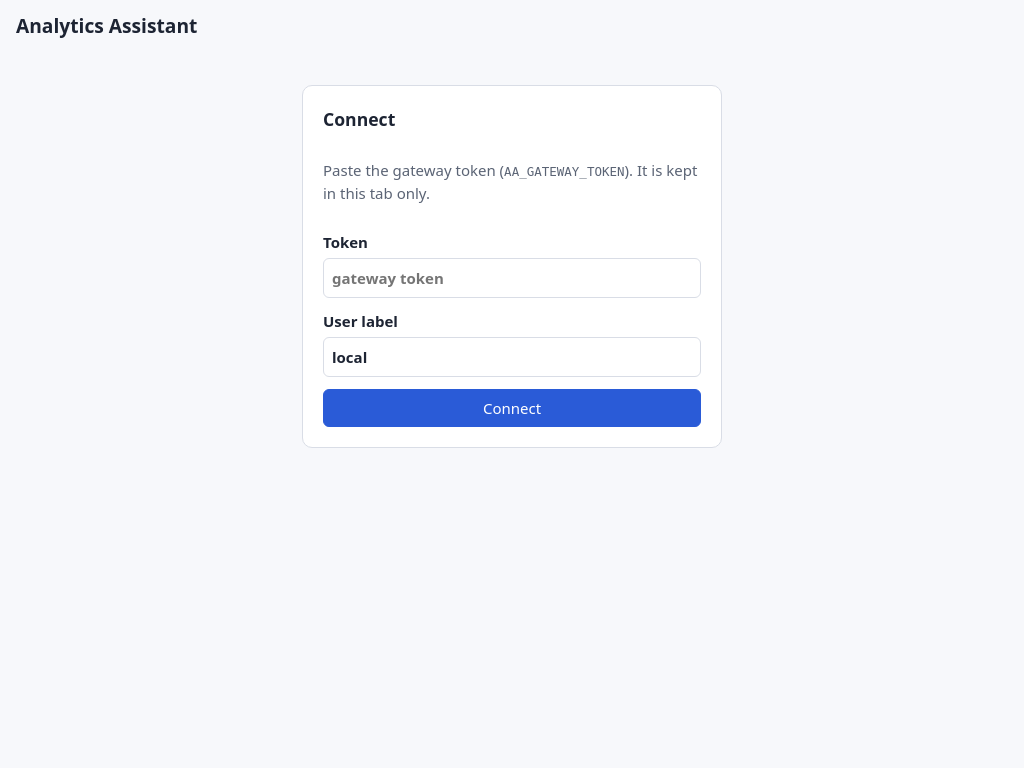
Scenario: App › streams a run: tool call with arguments and result, answer, provenance
The width and height of the screenshot is (1024, 768).
Type "tok-1234" into the password field labelled "Token" at (512, 278), box [323,258,701,298]
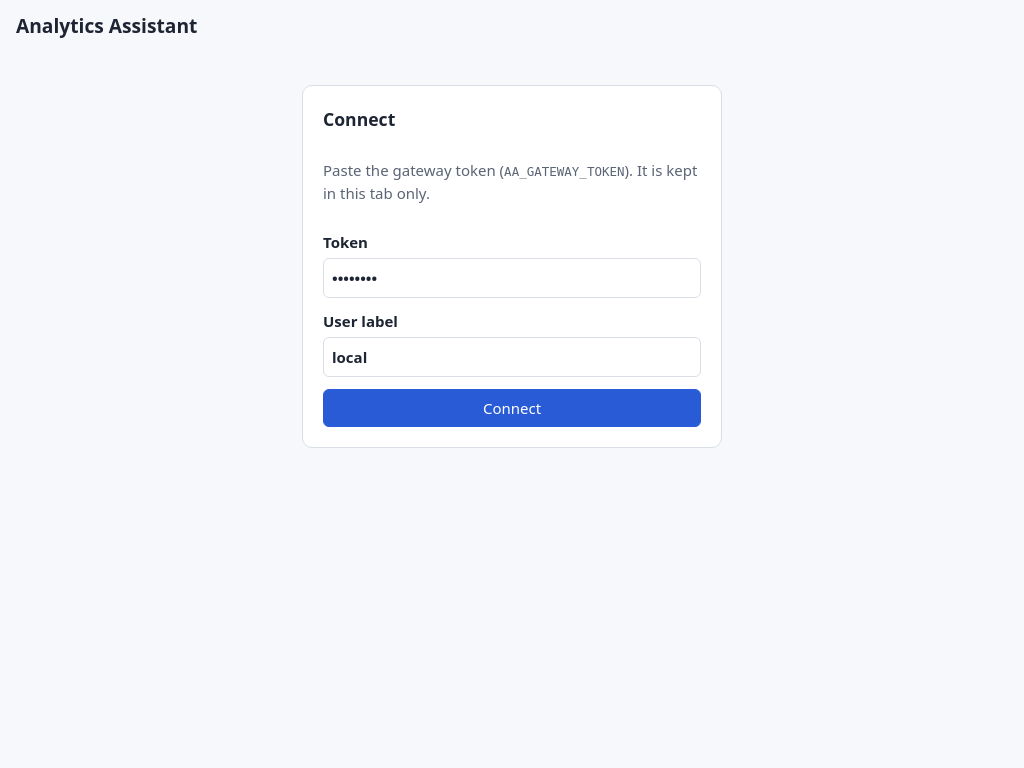
Click the button "Connect" at (512, 408), box [323,389,701,427]
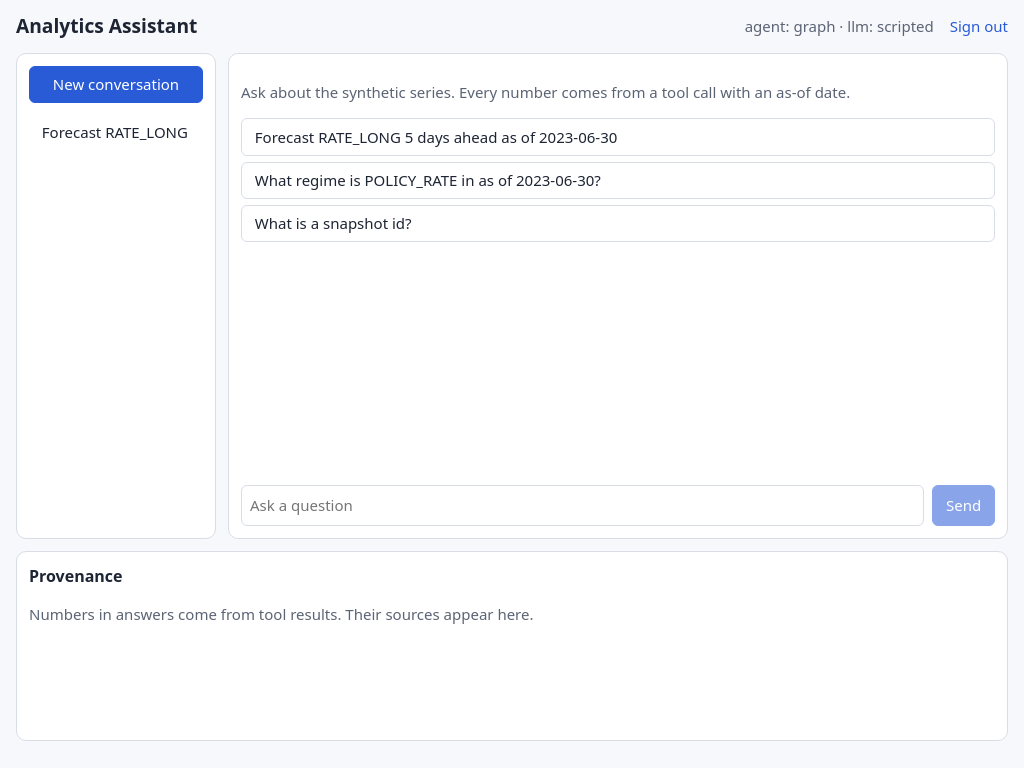
Expected: the button "Forecast RATE_LONG" is shown, [29,115,203,150]
Type "Forecast RATE_LONG 5 days ahead" into the field named "Message" at (583, 506), box [241,485,924,526]
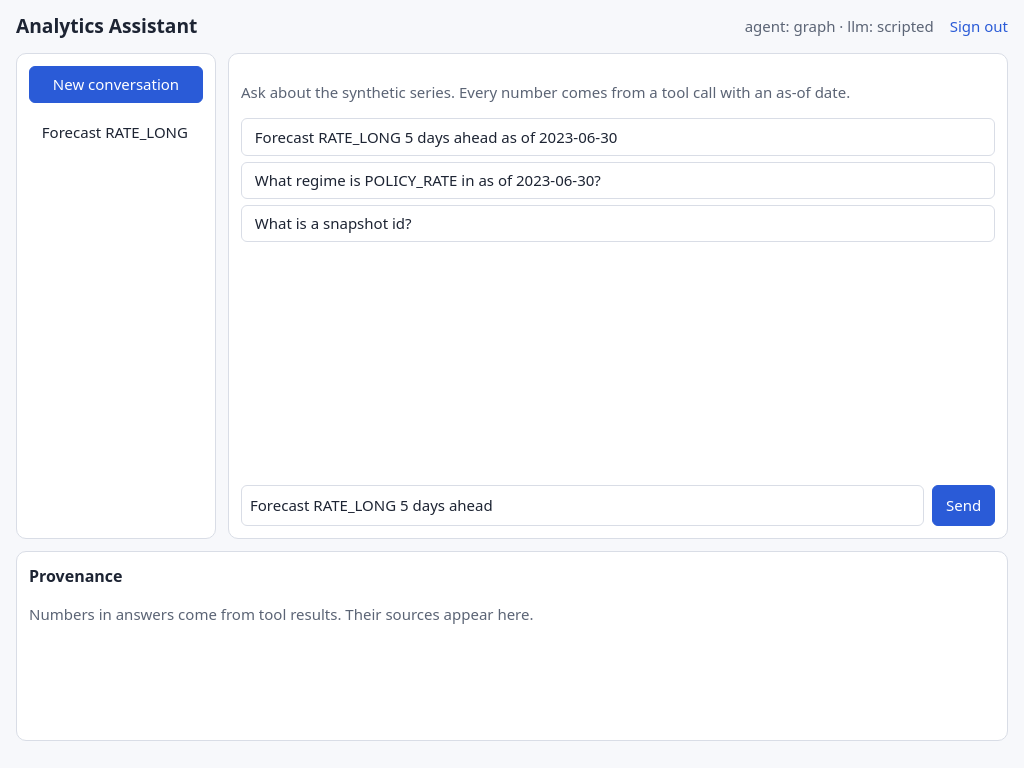
Click the button "Send" at (964, 506), box [932,485,995,526]
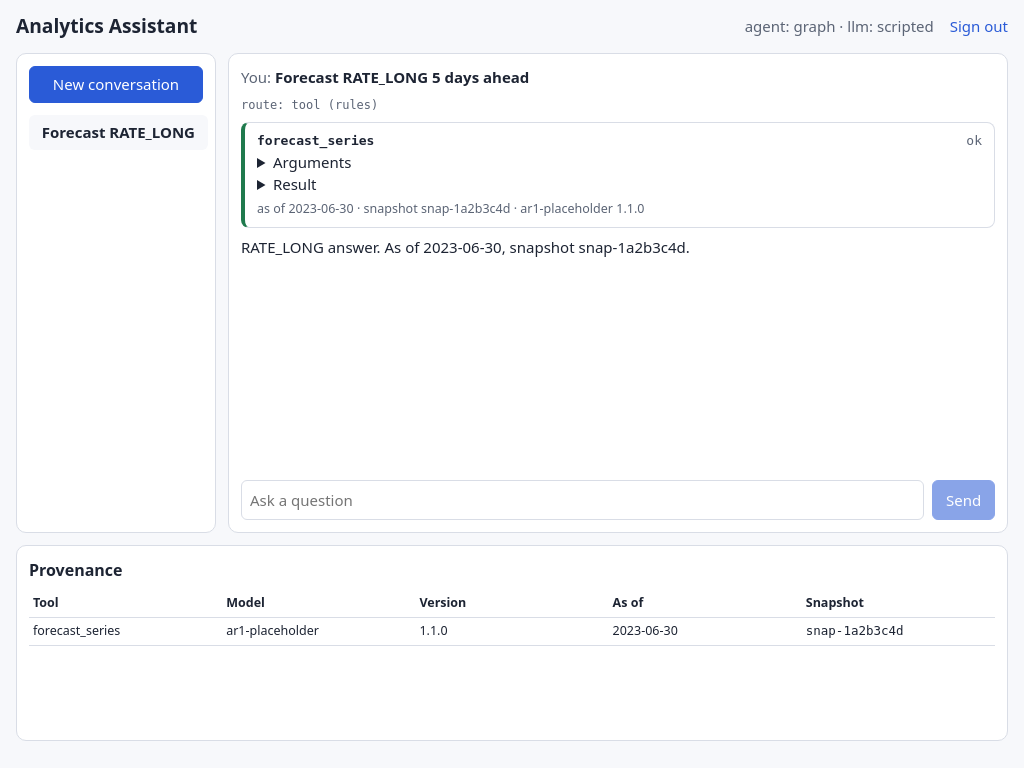
Expected: the text "ok" is shown, [966,131,982,151]
Expected: the text with test id "assistant-text" shows "As of 2023-06-30", [241,236,690,256]
Expected: the text "route: tool (rules)" is shown, [241,98,378,112]
